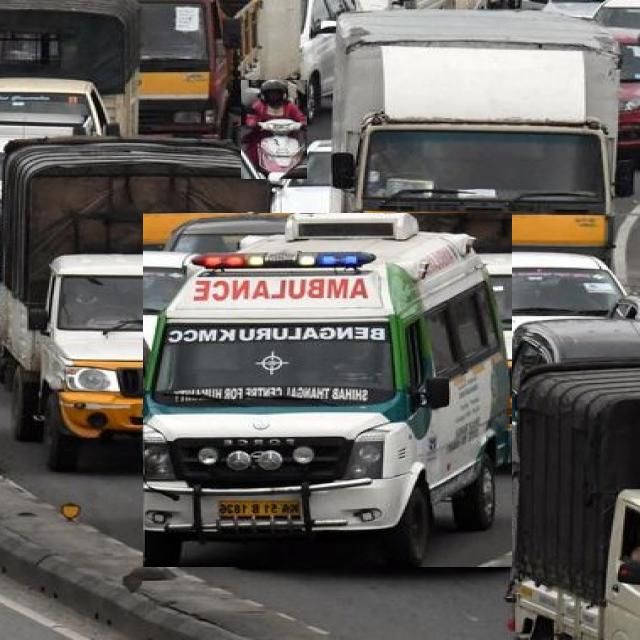emergency: (143, 214, 512, 567)
motorcycle: (241, 80, 307, 179)
truck: (2, 138, 267, 471), (332, 11, 618, 259)
